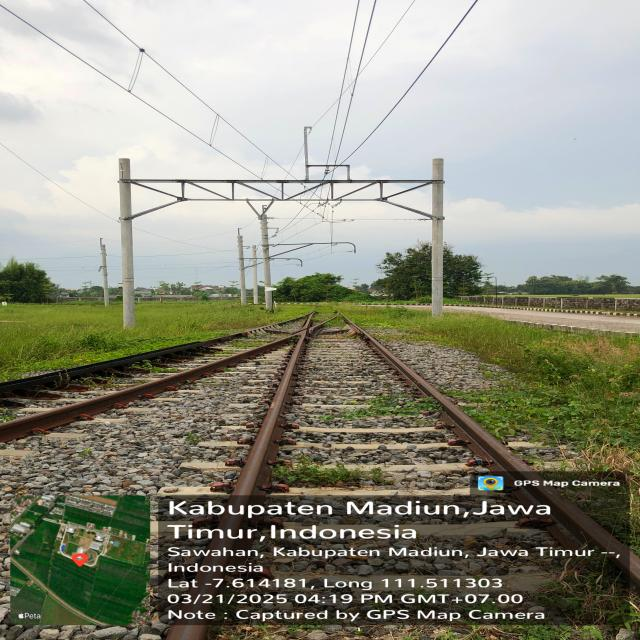rail-detection: (343, 316, 640, 583), (181, 323, 308, 613), (0, 335, 292, 442), (0, 331, 249, 392), (169, 618, 210, 640), (64, 373, 72, 380), (271, 420, 276, 425)
